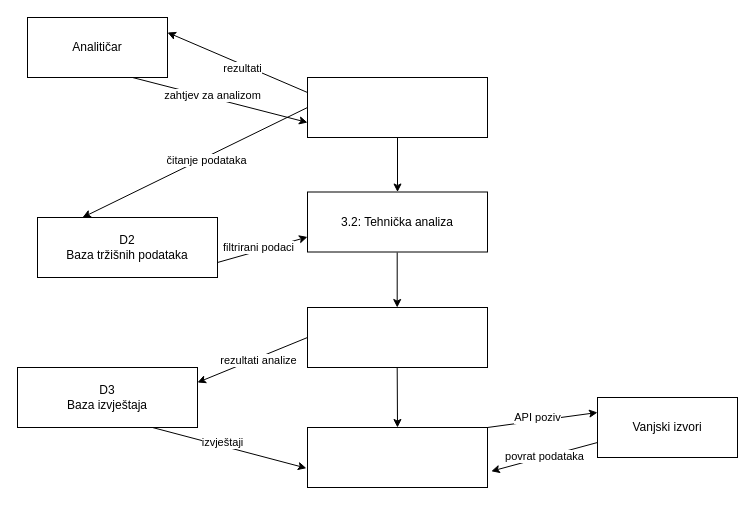
The diagram is 755 pixels wide and 505 high, and some of its shapes have lost their labels. The centre of each missing label's shape, as x and y in pixels:
3.1: Dohvat povijesnih podataka: point (397, 107)
3.3: Temeljna analiza: point (397, 337)
3.4: Predviđanje tržišta: point (397, 457)
